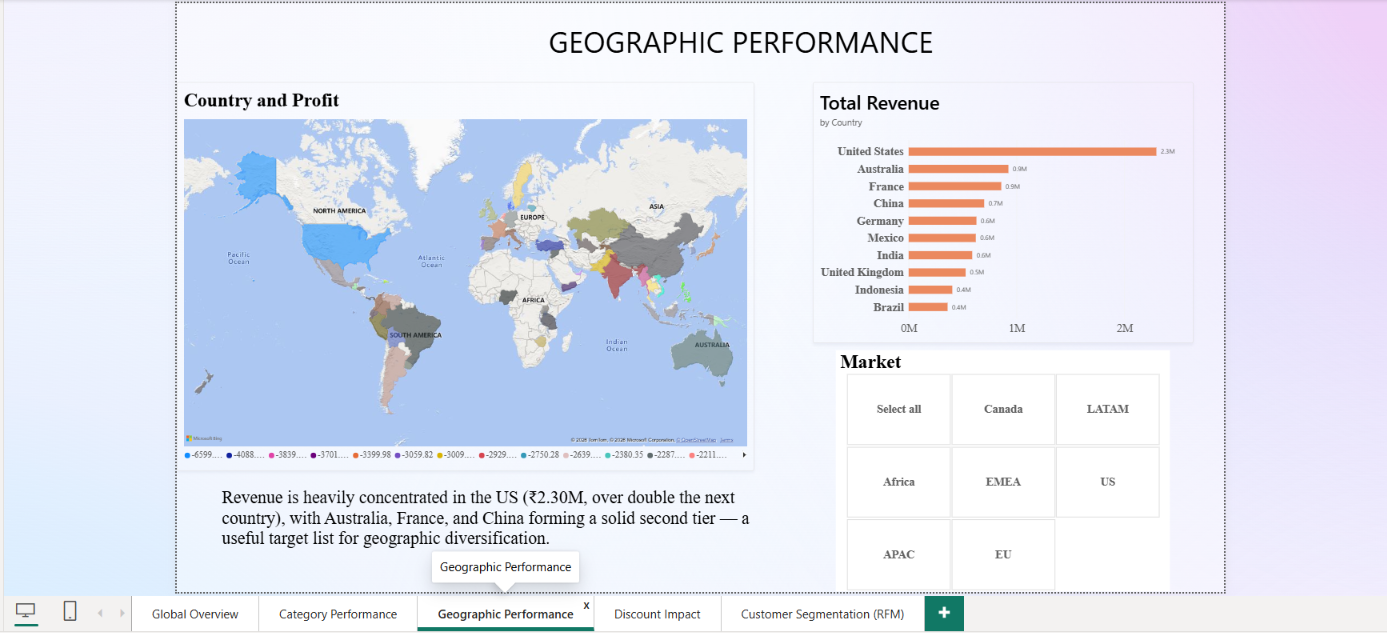

The dashboard page shown, as its layout file describes it:
{"tool":"powerbi","page":{"name":"Geographic Performance","canvas":[1920,1080],"ordinal":2},"visuals":[{"type":"filledMap","fields":{"Category":["cleaned_global_superstore.Country"],"Series":["cleaned_global_superstore.Profit"]},"box":[0,144.2,1059.1,712.9],"z":0},{"type":"slicer","fields":{"Values":["cleaned_global_superstore.Market"]},"box":[1209.5,636.7,612.6,442.1],"z":1000},{"type":"barChart","fields":{"Category":["cleaned_global_superstore.Country"],"Y":["cleaned_global_superstore.Total Revenue"]},"box":[1166.3,144.2,698.5,478],"z":2000},{"type":"textbox","box":[82.4,888.1,976.7,191.6],"z":3000},{"type":"textbox","box":[1770,144,150,713],"z":4000},{"type":"textbox","box":[682,33,780.9,94.8],"z":5000}]}

Visuals, with their boxes on the page's 1920x1080 design canvas (x1, y1, x2, y2). These are canvas units, not pixel positions in the 1387x633 screenshot, which may show the page scaled, cropped or inside an application window:
filledMap - cleaned_global_superstore.Country x cleaned_global_superstore.Profit: region(0, 144, 1059, 857)
slicer - cleaned_global_superstore.Market: region(1210, 637, 1822, 1079)
barChart - cleaned_global_superstore.Country x cleaned_global_superstore.Total Revenue: region(1166, 144, 1865, 622)
textbox: region(82, 888, 1059, 1080)
textbox: region(1770, 144, 1920, 857)
textbox: region(682, 33, 1463, 128)
